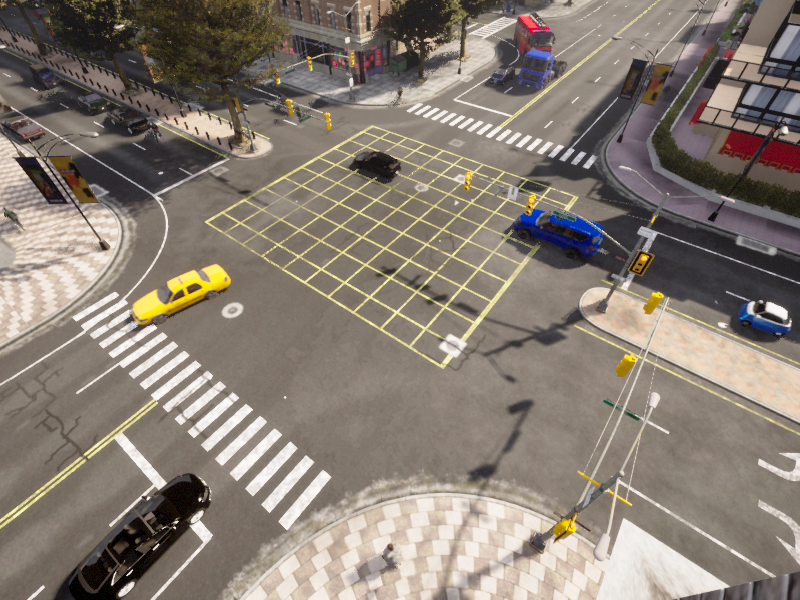vehicle: (113, 255, 231, 335), (505, 193, 607, 265), (729, 289, 796, 340), (100, 99, 157, 138), (347, 140, 401, 181), (144, 118, 171, 145), (270, 90, 294, 113)
